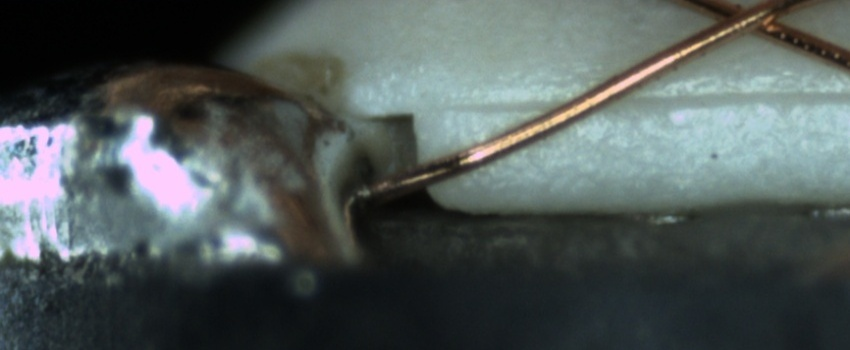CL: (691, 1, 804, 45)
DL: (451, 72, 849, 132)
